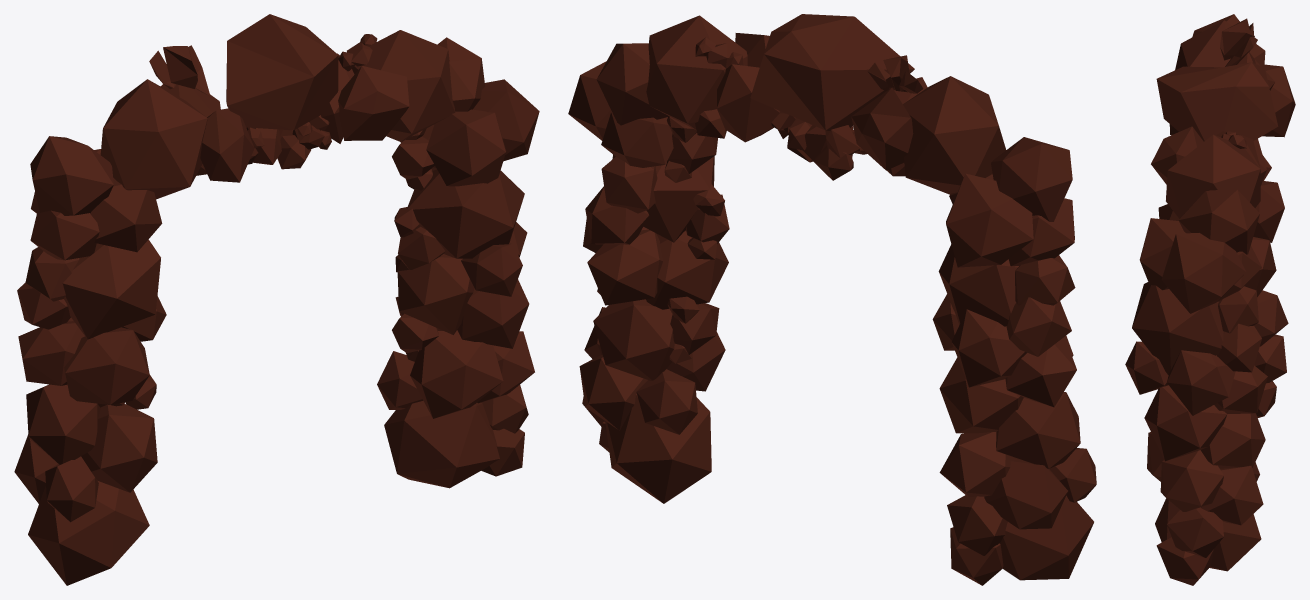
The model's file is Portal_Doorway_Receiver.FBX.
The picture shows the model from 3 angles, left to right: view 1: azimuth 30°, elevation 25°; view 2: azimuth 150°, elevation 25°; view 3: azimuth 270°, elevation 25°; orthographic projection. The views are drawn at different scales.
Visible parts, largest first — view 1: Portal_Doorway_Receiver; view 2: Portal_Doorway_Receiver; view 3: Portal_Doorway_Receiver.
Part boxes in pixels (x1=…): Portal_Doorway_Receiver: x1=14, y1=14, x2=539, y2=585; Portal_Doorway_Receiver: x1=568, y1=14, x2=1096, y2=585; Portal_Doorway_Receiver: x1=1125, y1=14, x2=1295, y2=585.
Bounding box in the file's own units: 6.89 × 2.29 × 6.56.
